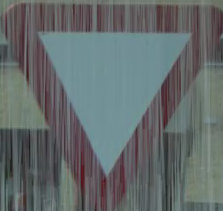Give way: (11, 3, 209, 193)
